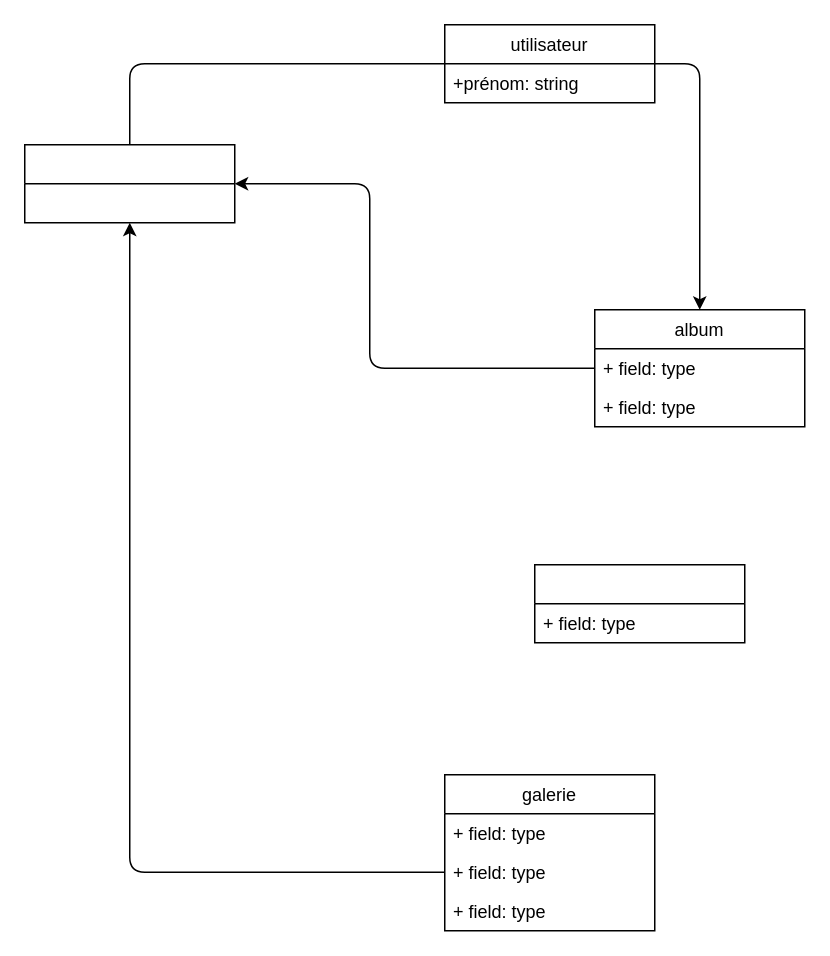
This 830x956 diagram has some shape labels left out. The shapes that lost their labels are listed below. From the top down, each one's box as (x1, y1, x2, y2) in pixels, then its label:
(23, 143, 235, 223): CollectionPhotos
(533, 563, 745, 643): photo
